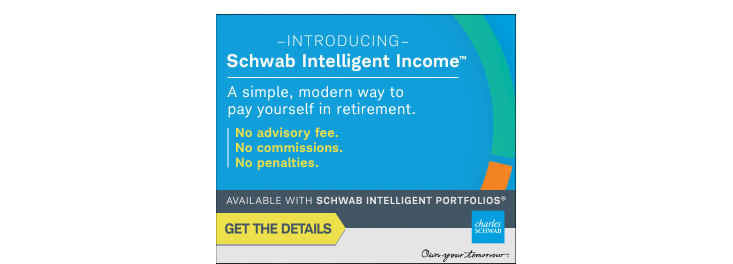fake_button: (204, 206, 350, 258)
